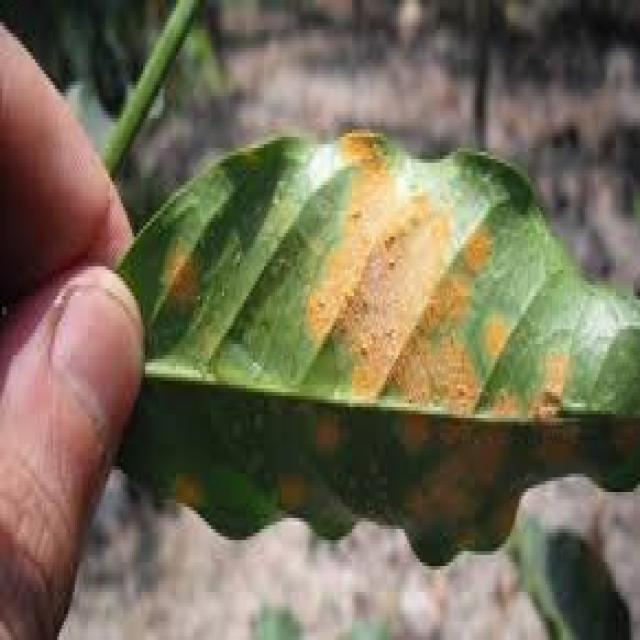leaf_rust: (119, 133, 638, 562)
